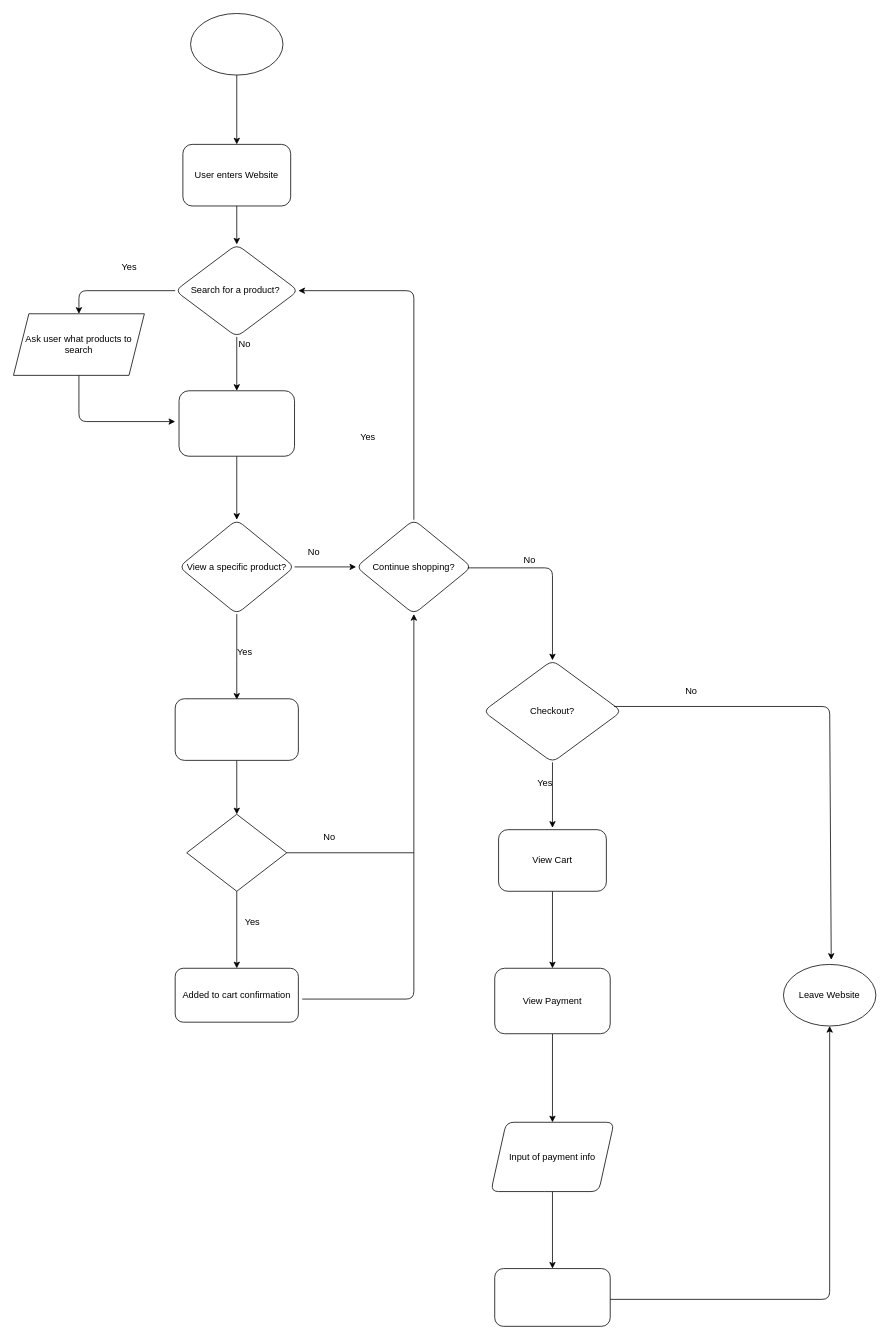
The diagram is 889 pixels wide and 1340 high, and some of its shapes have lost their labels. The centre of each missing label's shape, as x and y in pixels:
Add this item to cart?: (236,852)
Browse through the products: (236,423)
Order confirmation page comes up: (552,1297)
Product's webpage opens up: (236,729)
Start: (236,44)
